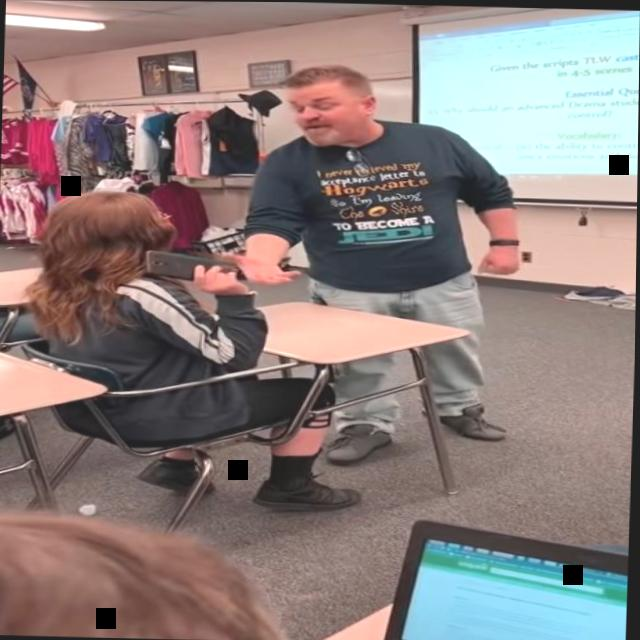NO-Mask: (267, 69, 380, 148)
